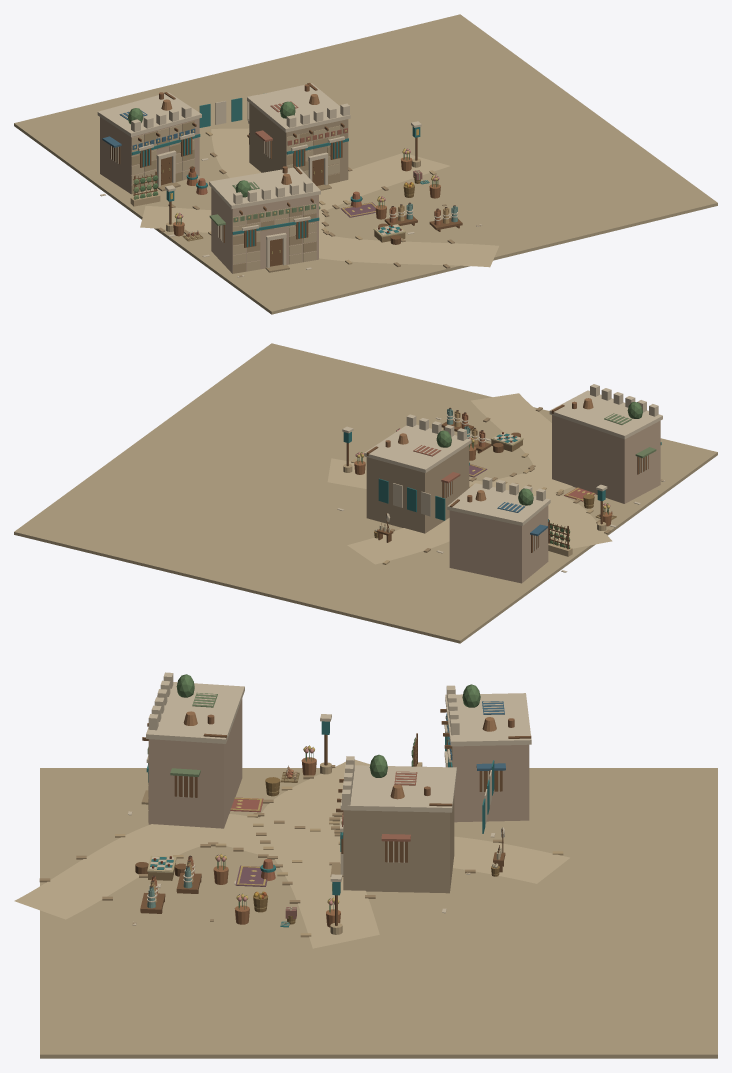
File: city-homes.glb
The picture shows the model from 3 angles, top to bottom: view 1: azimuth 30°, elevation 25°; view 2: azimuth 150°, elevation 25°; view 3: azimuth 270°, elevation 25°; orthographic projection. The views are drawn at different scales.
Parts seen in each view (by area): view 1: city-homes; view 2: city-homes; view 3: city-homes.
Boxes of the visible parts, box(x1,y1,x2,y2) form: city-homes: box(14, 14, 717, 314); city-homes: box(14, 343, 717, 643); city-homes: box(14, 672, 717, 1058).
Bounding box in the file's own units: 32.94 × 5.97 × 33.22.
